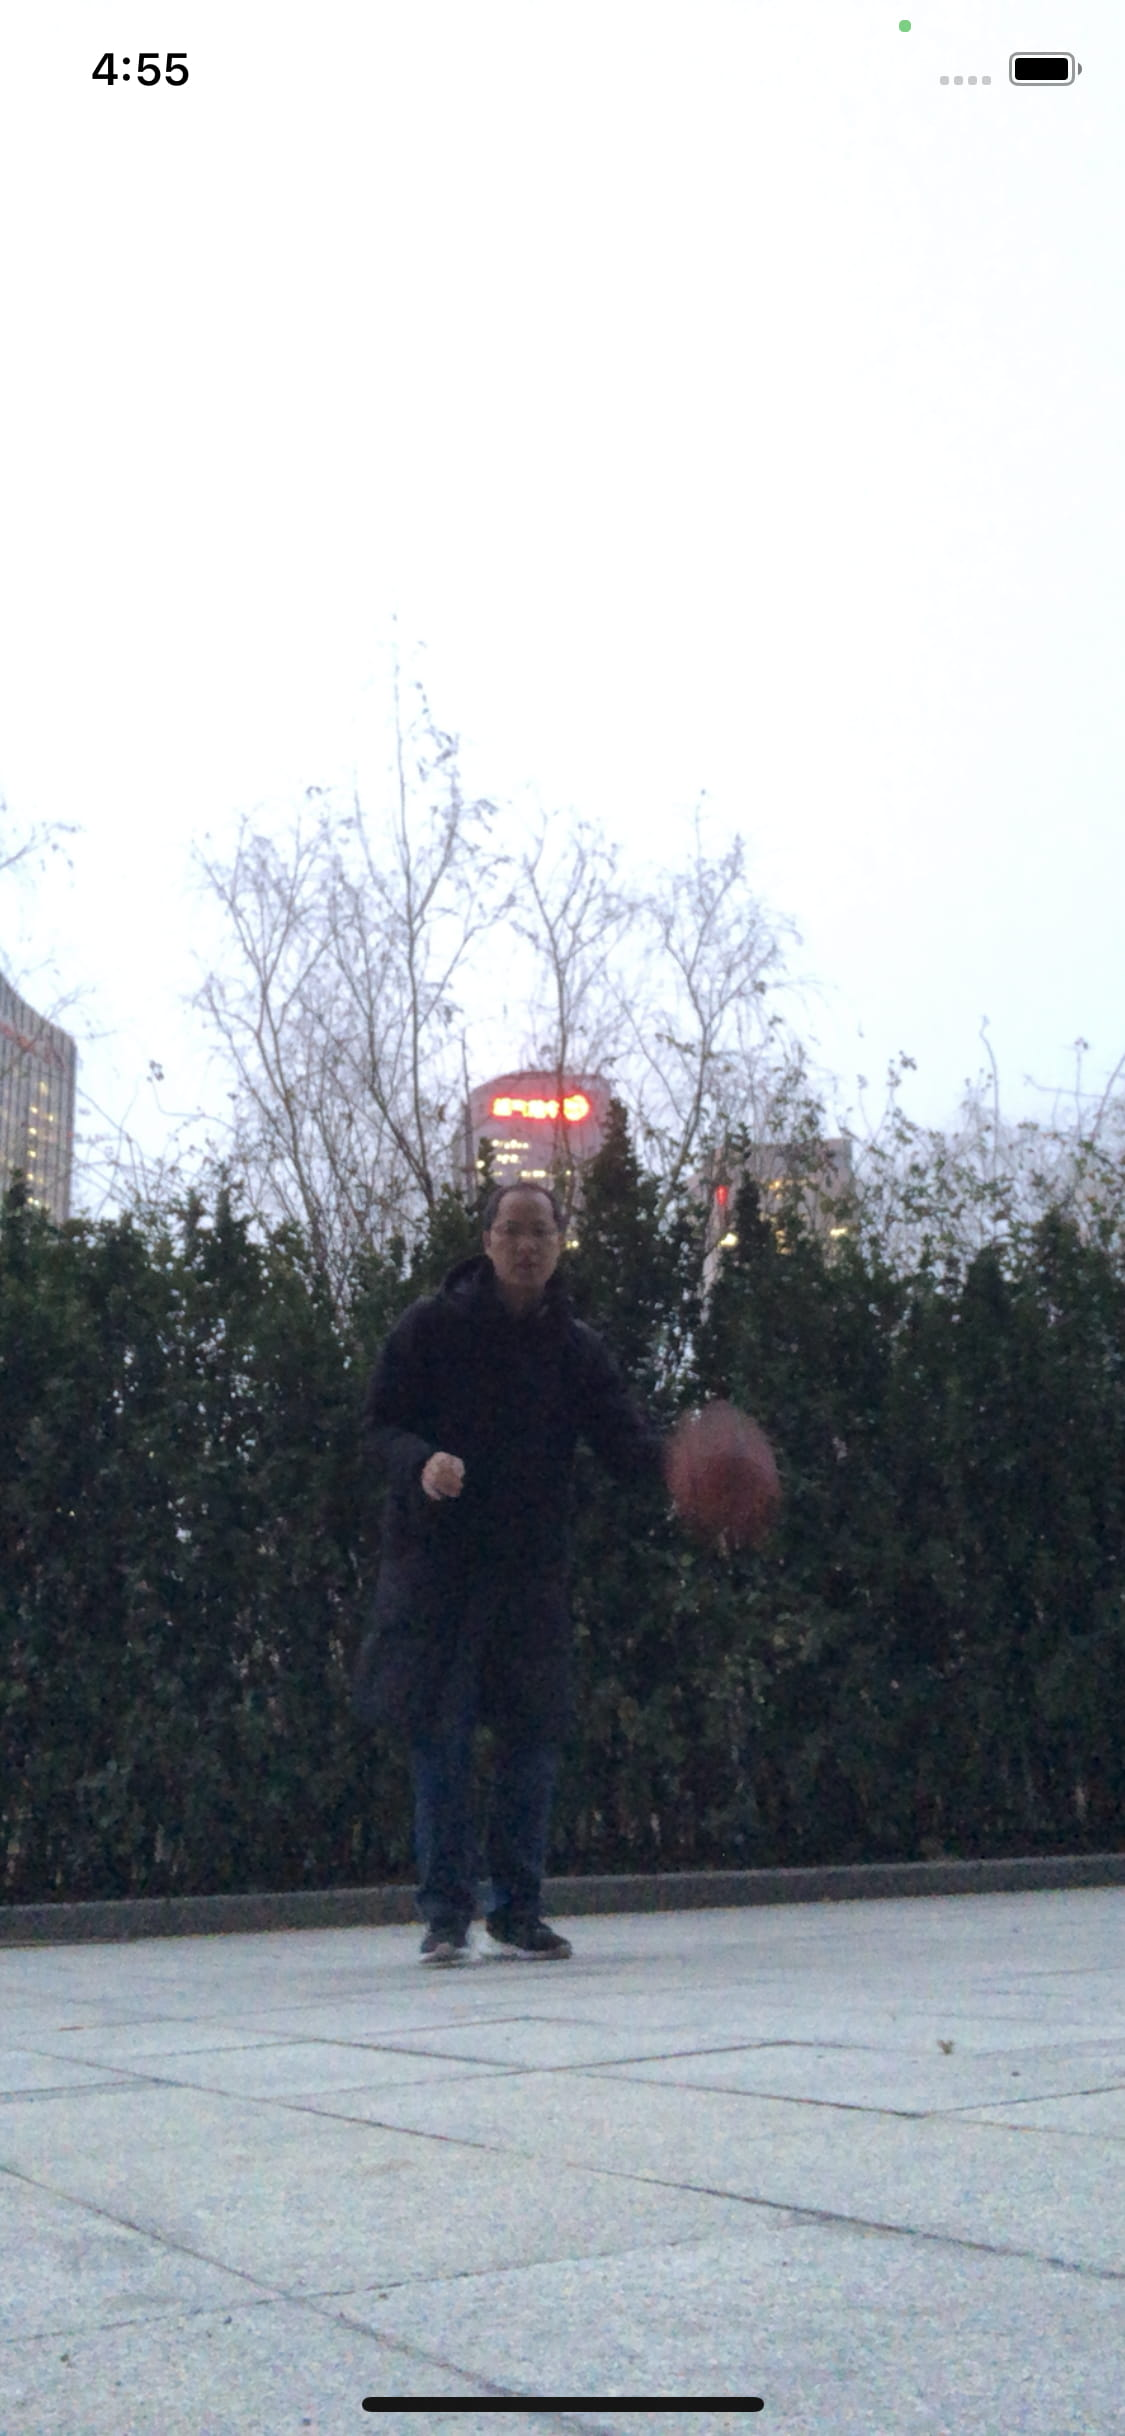ball: (667, 1415, 780, 1533)
